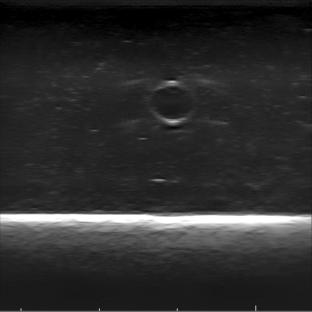vessel: (145, 79, 195, 125)
